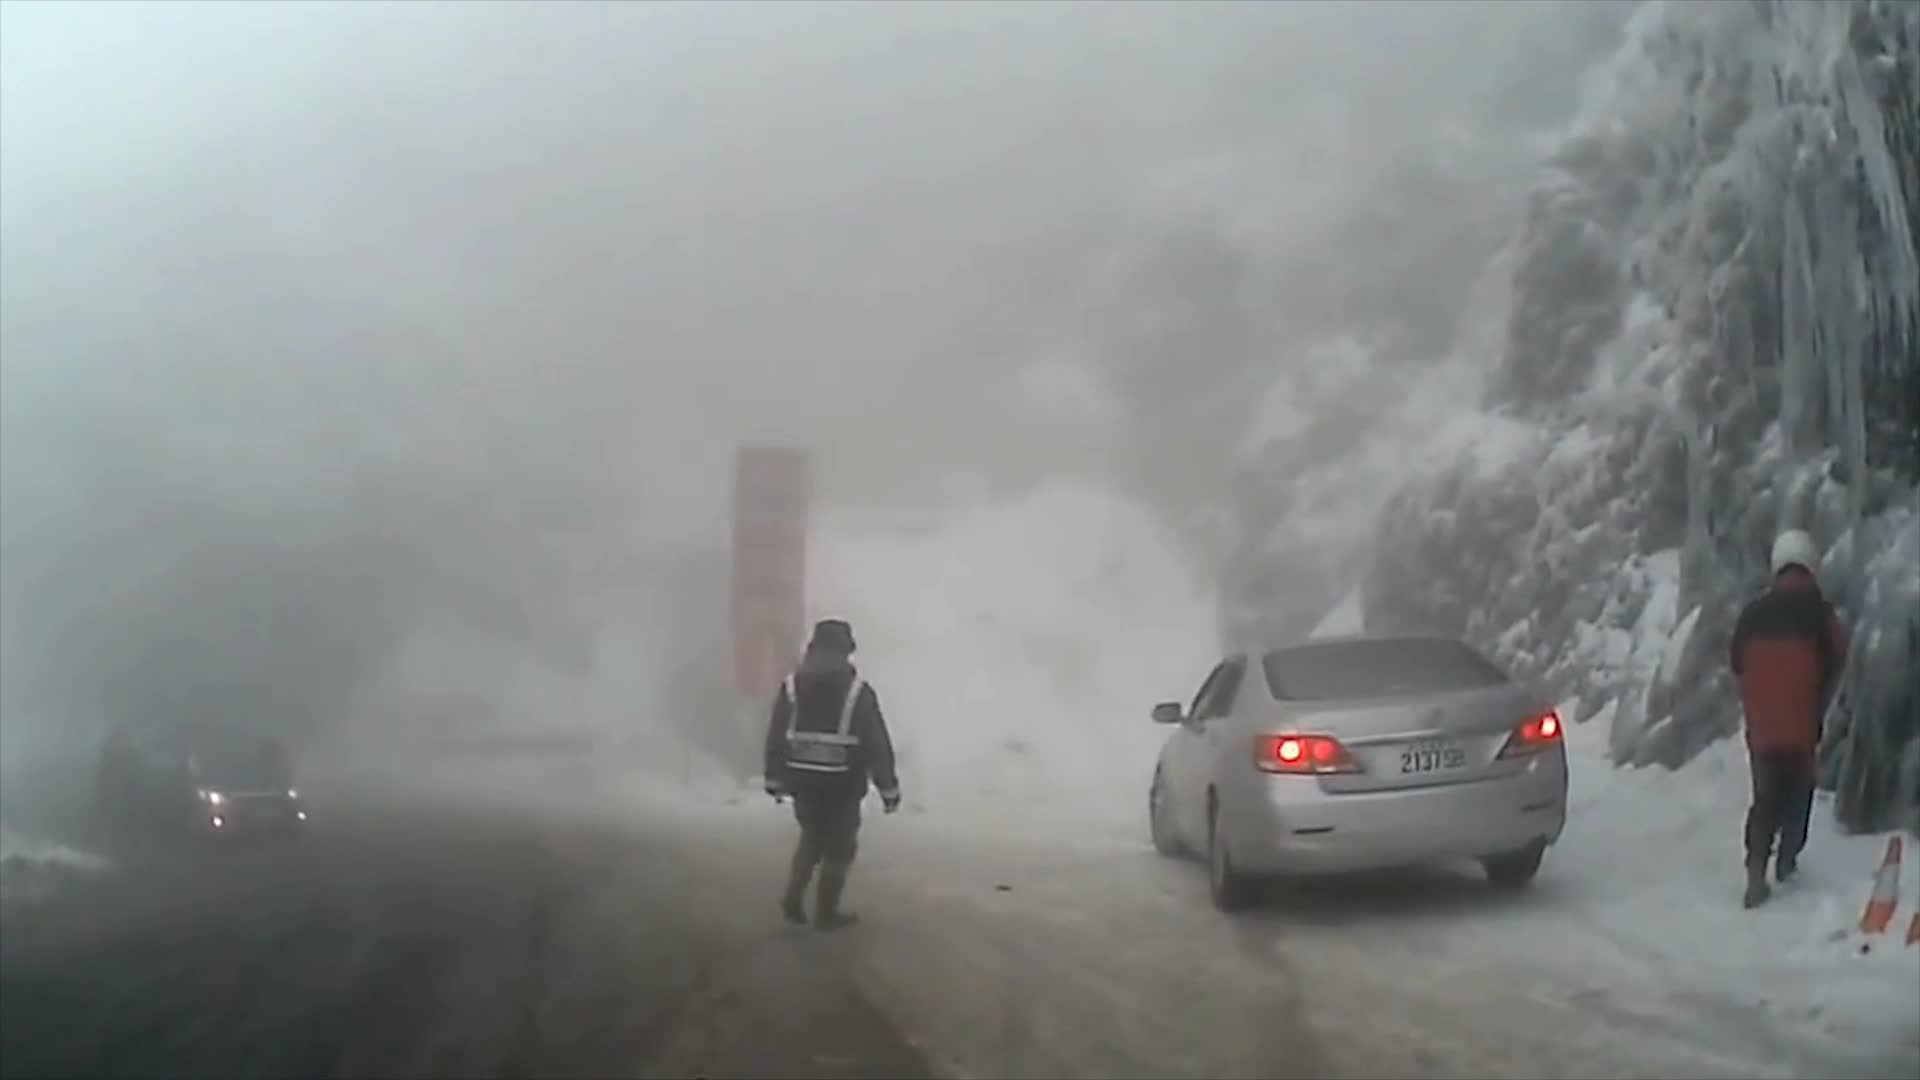pedestrian: (1731, 526, 1849, 907), (764, 619, 904, 929)
vehicle: (1145, 634, 1569, 912)
